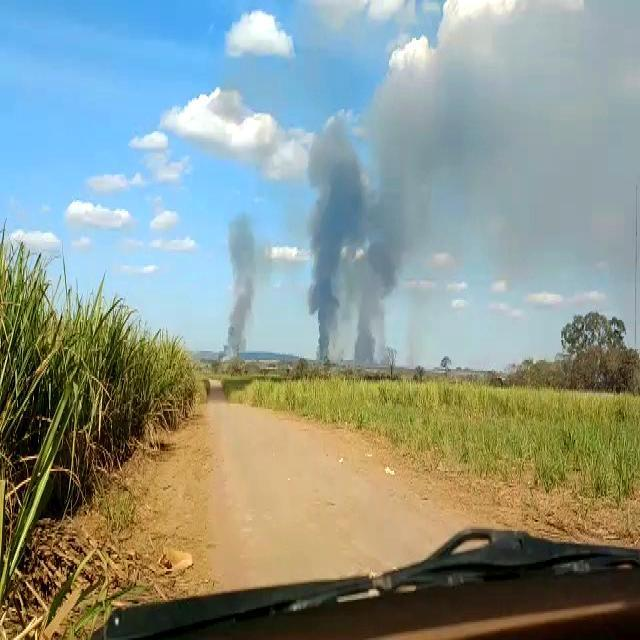Smoke: (424, 0, 640, 288), (308, 96, 410, 370), (219, 201, 273, 371)
